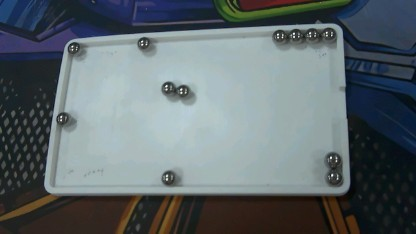ironball: (319, 148, 341, 168), (155, 168, 177, 184), (322, 167, 340, 186), (323, 23, 336, 46), (285, 28, 304, 43), (64, 40, 82, 55), (304, 25, 319, 43), (174, 83, 191, 98), (54, 111, 72, 125), (159, 78, 174, 93), (134, 36, 150, 50), (269, 29, 285, 42)
